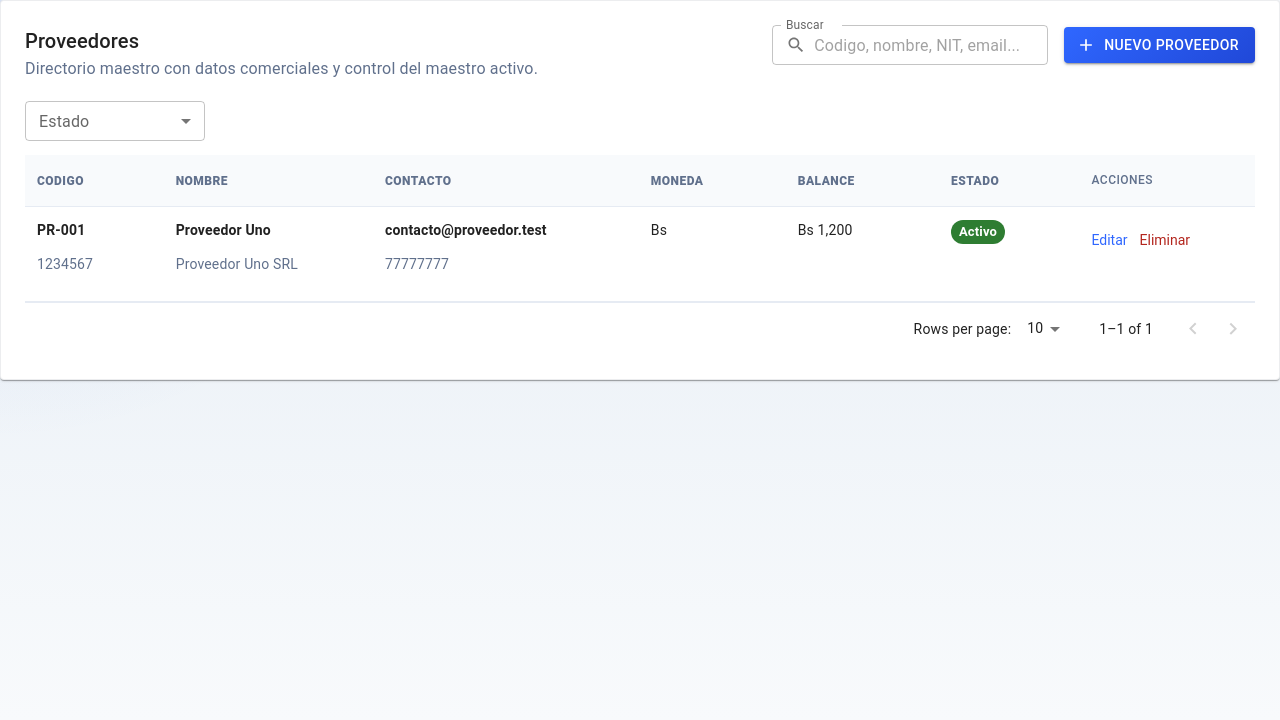
Test: ProveedoresScreen › muestra el error de eliminacion tambien cuando el editor esta cerrado
The width and height of the screenshot is (1280, 720).
Click the button "Eliminar" at [1165, 240], box 1140,220 -> 1190,260
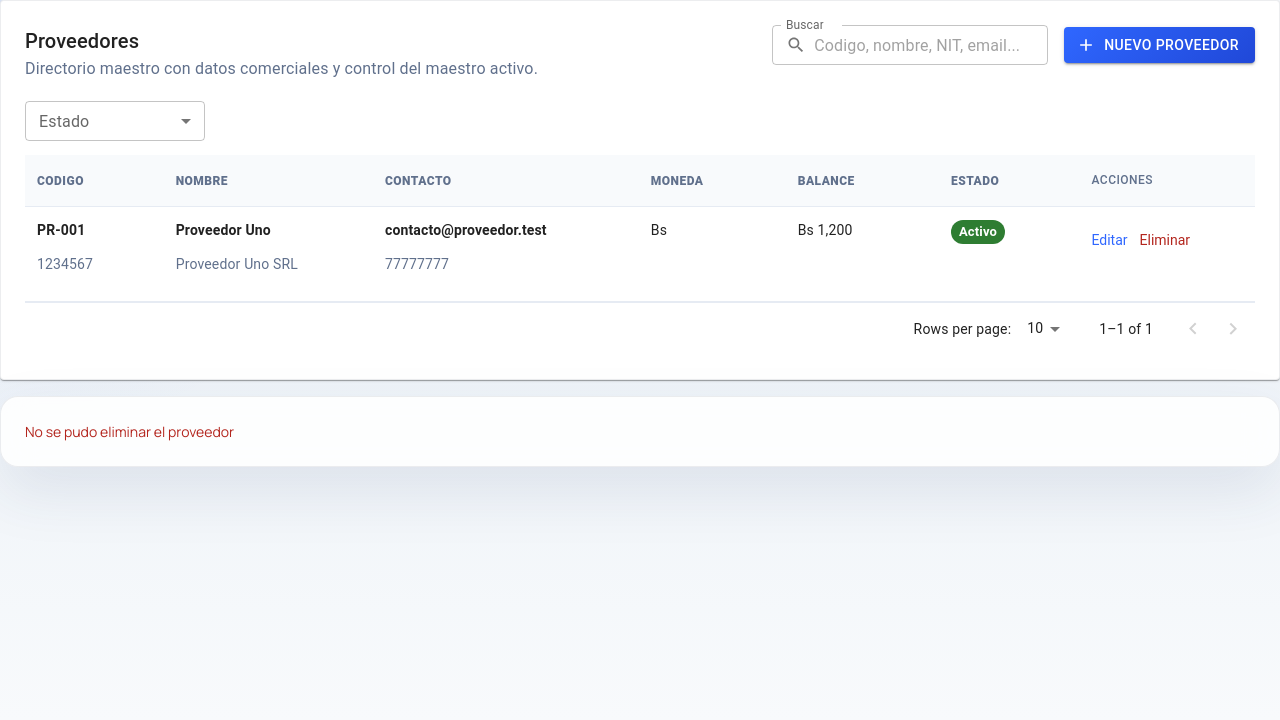
Result: the text "No se pudo eliminar el proveedor" is shown at 25,422 -> 234,441
